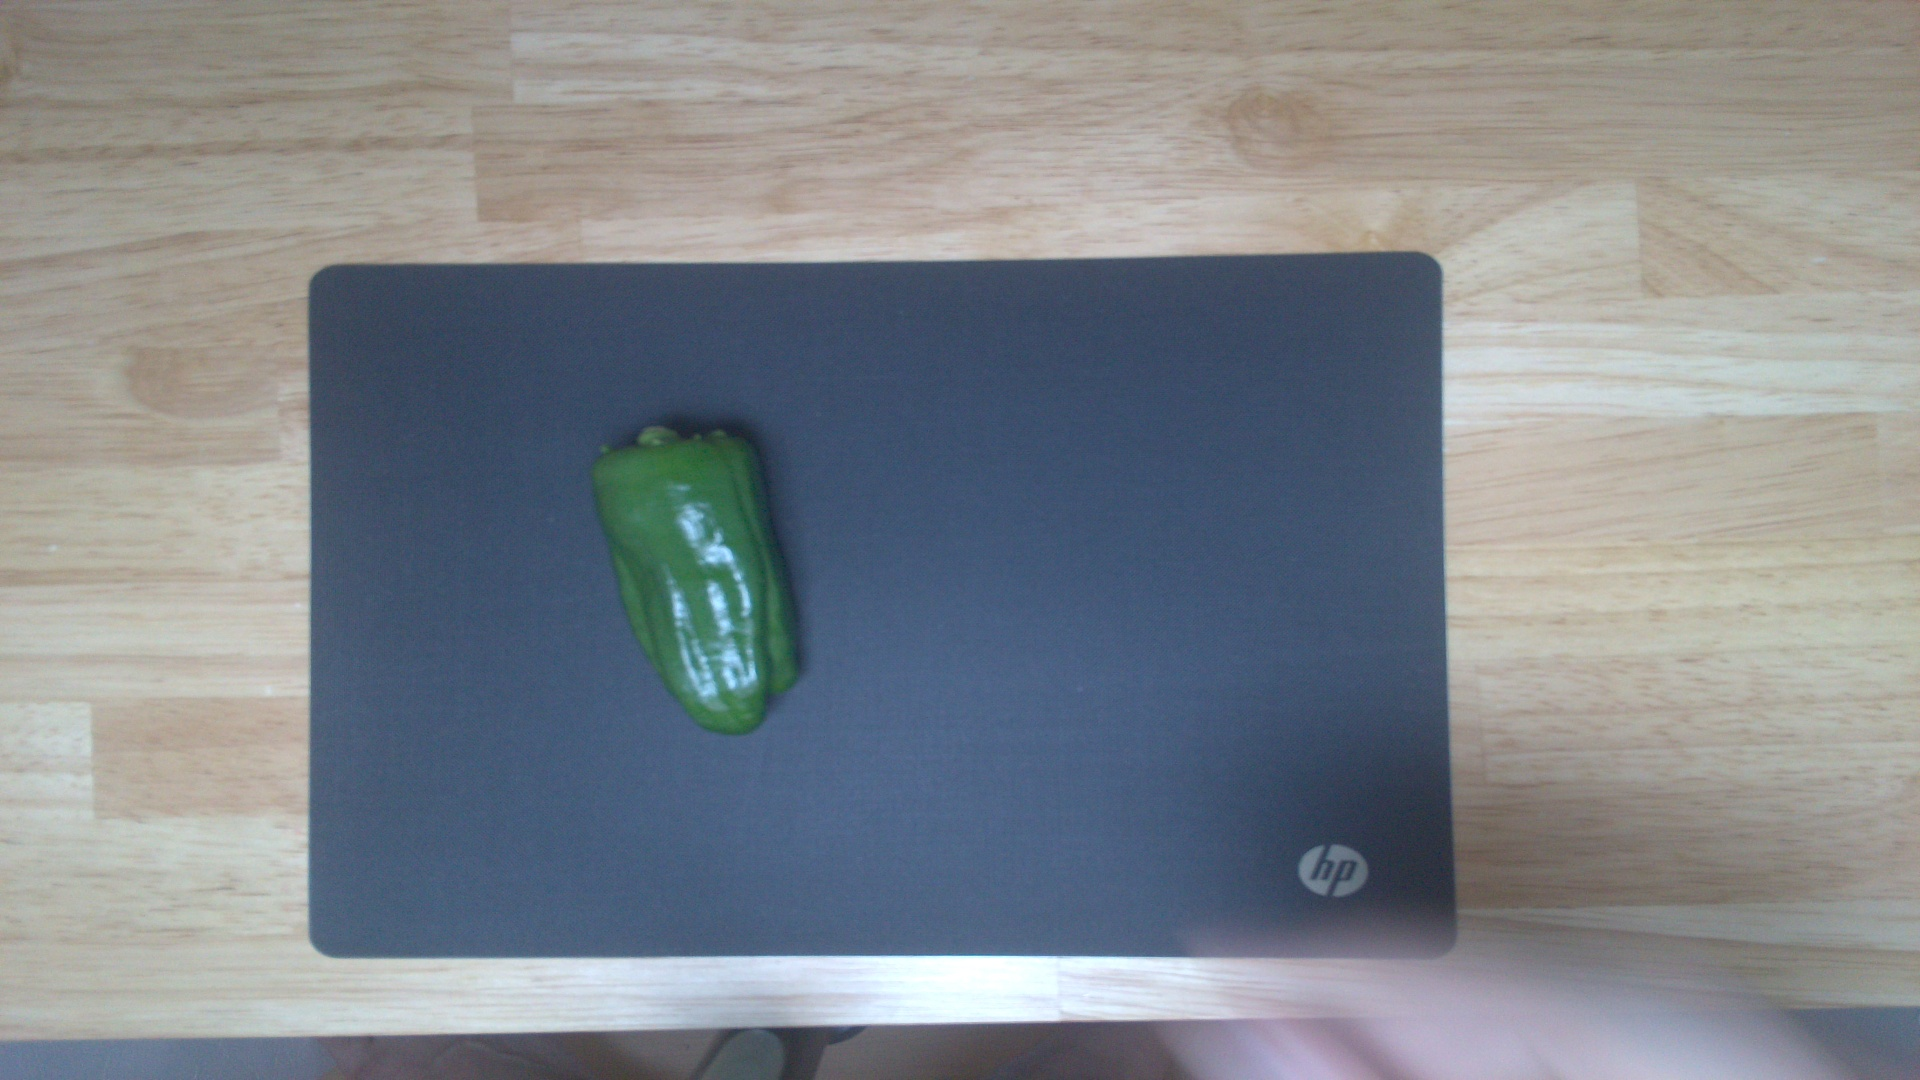Piman: (585, 419, 804, 735)
